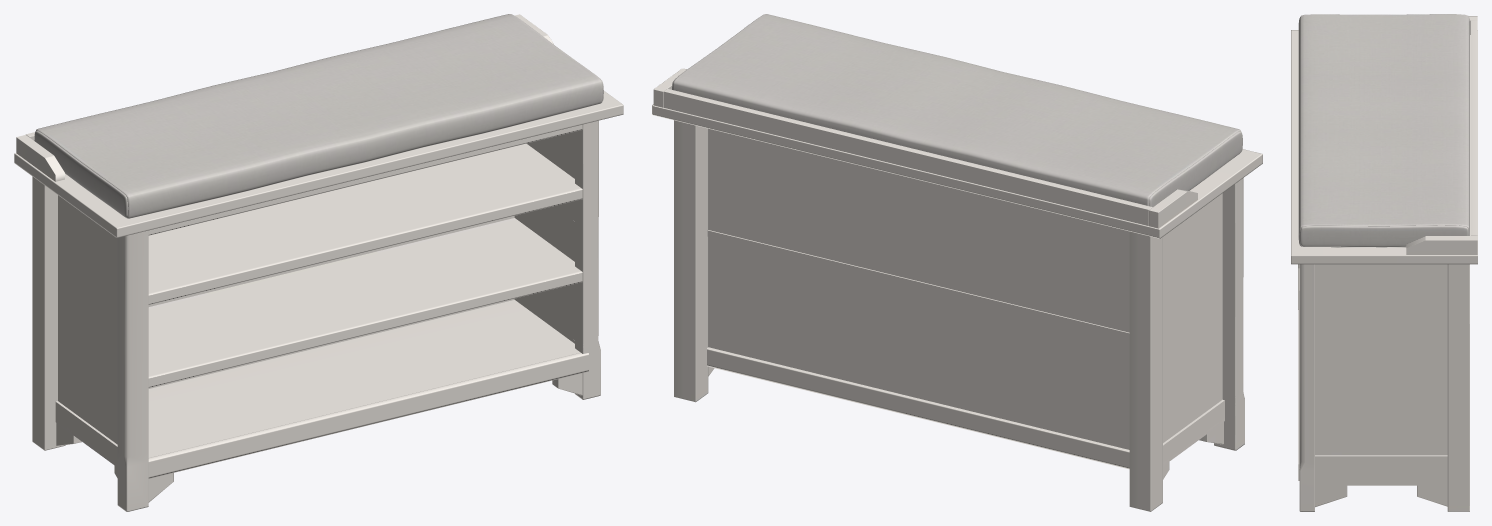
File: sofa.glb
3 views of the same model, side by side, from view 1: azimuth 30°, elevation 25°; view 2: azimuth 150°, elevation 25°; view 3: azimuth 270°, elevation 25° (orthographic). The views are drawn at different scales.
Visible parts, largest first — view 1: RootNode; view 2: RootNode; view 3: RootNode.
Boxes of the visible parts, x1=… form: RootNode: x1=14, y1=14, x2=623, y2=511; RootNode: x1=652, y1=14, x2=1262, y2=511; RootNode: x1=1291, y1=14, x2=1477, y2=511.
Size of the model in its own units: 0.9872 by 0.5887 by 0.3459.
1 material, 1 textured.
